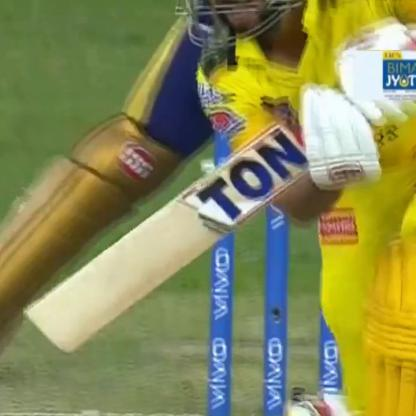bat: (14, 105, 333, 359)
